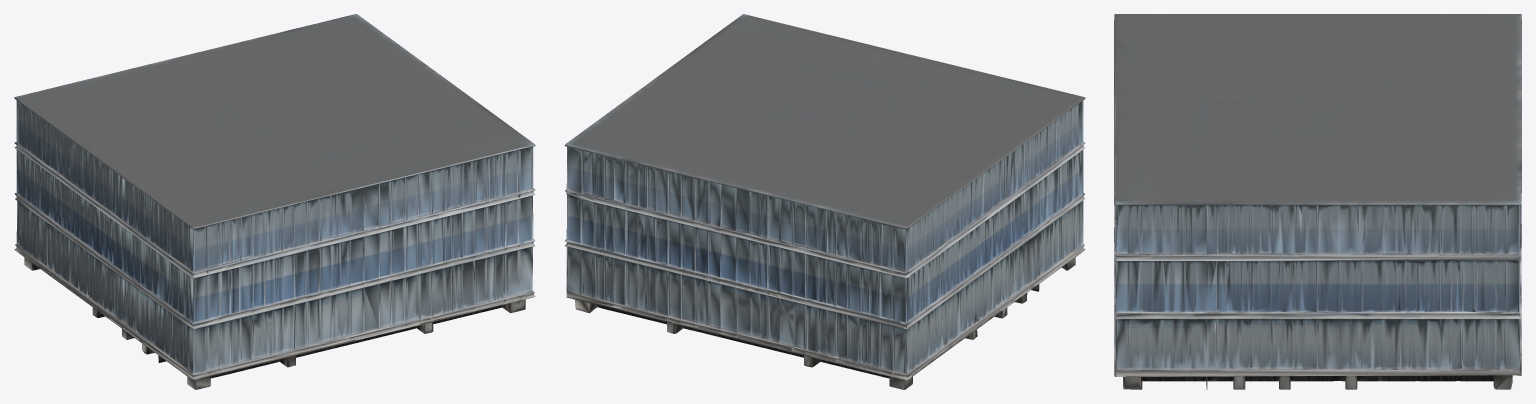
Rendered from ruined_office_building.glb.
3 views of the same model, side by side, from view 1: azimuth 30°, elevation 25°; view 2: azimuth 150°, elevation 25°; view 3: azimuth 270°, elevation 25° (orthographic). The views are drawn at different scales.
Parts seen in each view (by area): view 1: node_0; view 2: node_0; view 3: node_0.
Part boxes in pixels (box(x1,y1,x2,y2)): node_0: box(14, 14, 535, 389); node_0: box(564, 14, 1085, 389); node_0: box(1114, 14, 1521, 389).
Bounding box in the file's own units: 0.845 × 0.3913 × 0.7645.
Materials: 1 (1 with a texture image).
